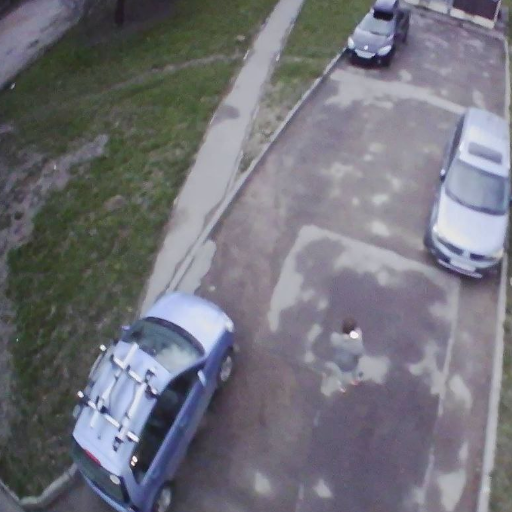Car: (67, 291, 239, 508), (421, 105, 509, 280), (344, 2, 409, 71)
